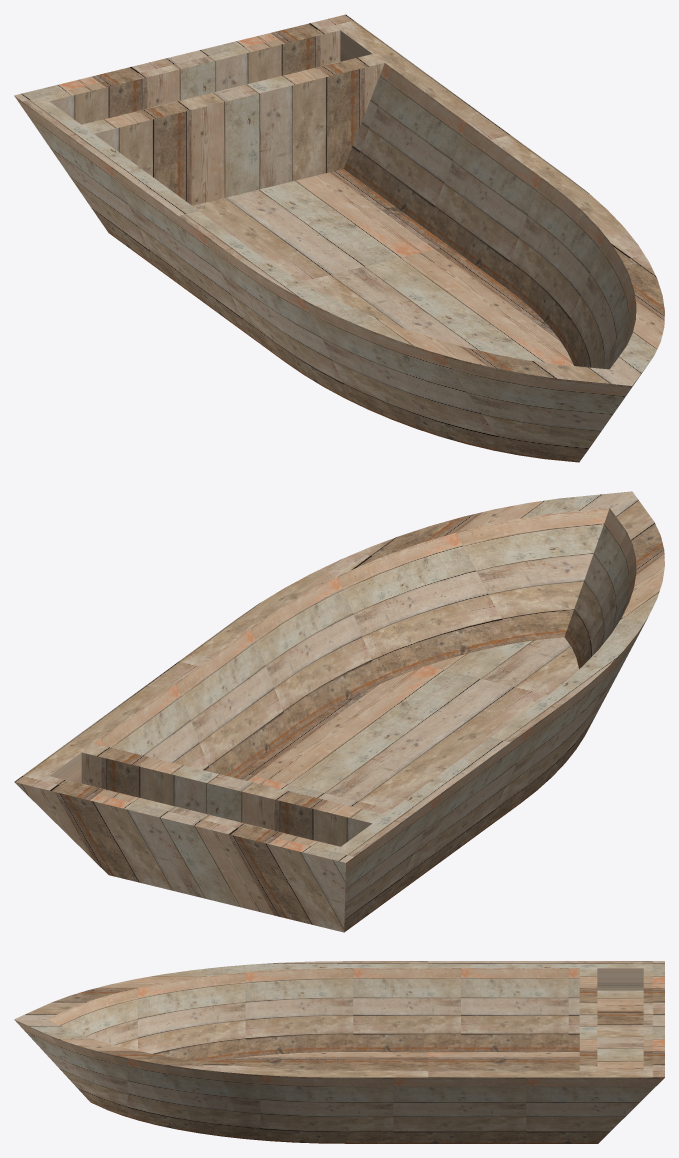
Rendered from boat.obj.
3 renders of one model, top to bottom at view 1: azimuth 30°, elevation 25°; view 2: azimuth 150°, elevation 25°; view 3: azimuth 270°, elevation 25°, orthographic. The views are drawn at different scales.
Parts seen in each view (by area): view 1: Barco; view 2: Barco; view 3: Barco.
Part boxes in pixels (left/top/right/bottom): Barco: left=14, top=14, right=664, bottom=462; Barco: left=14, top=491, right=664, bottom=932; Barco: left=14, top=961, right=664, bottom=1143.
Bounding box in the file's own units: 2.68 × 0.89 × 6.33.
1 material, 1 textured.
